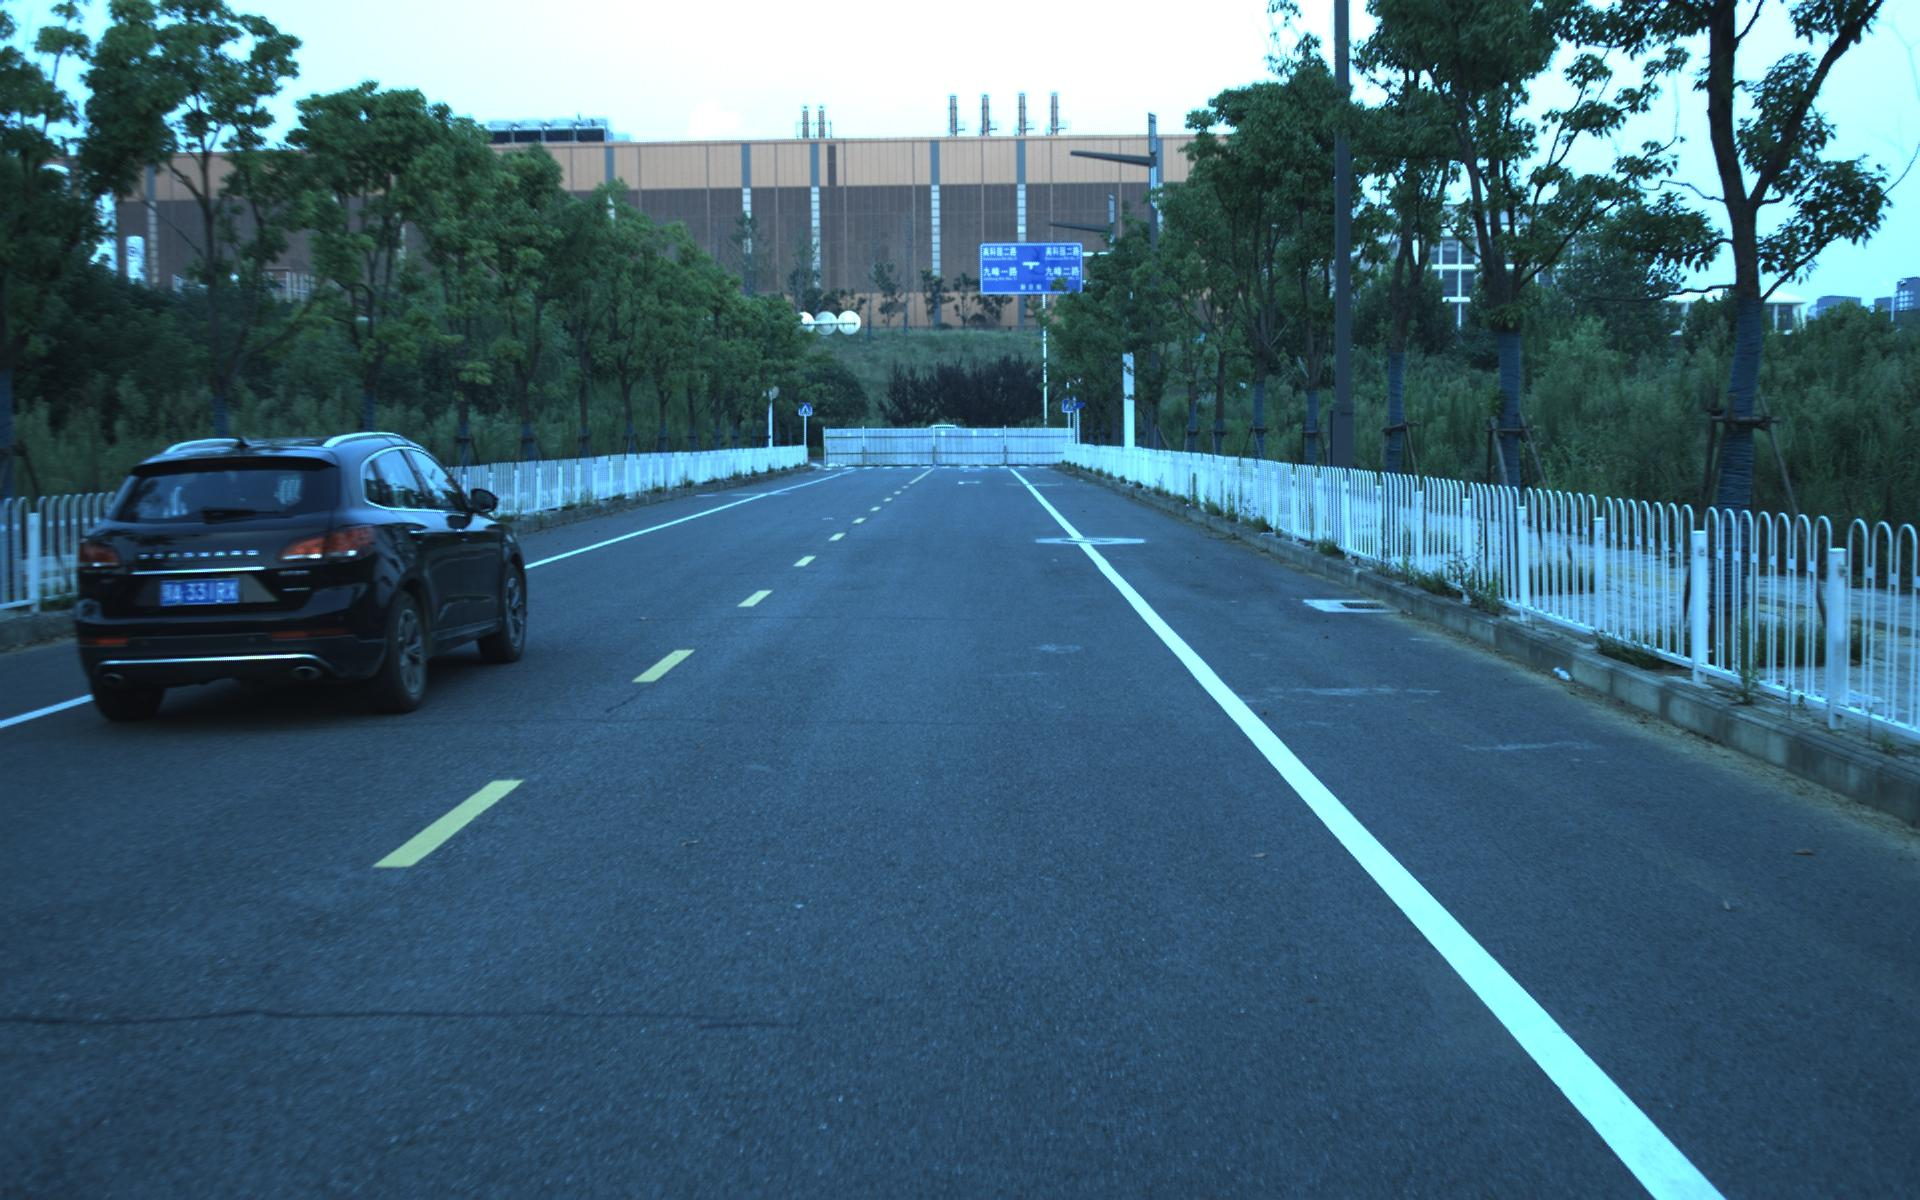Car: (57, 422, 534, 727)
